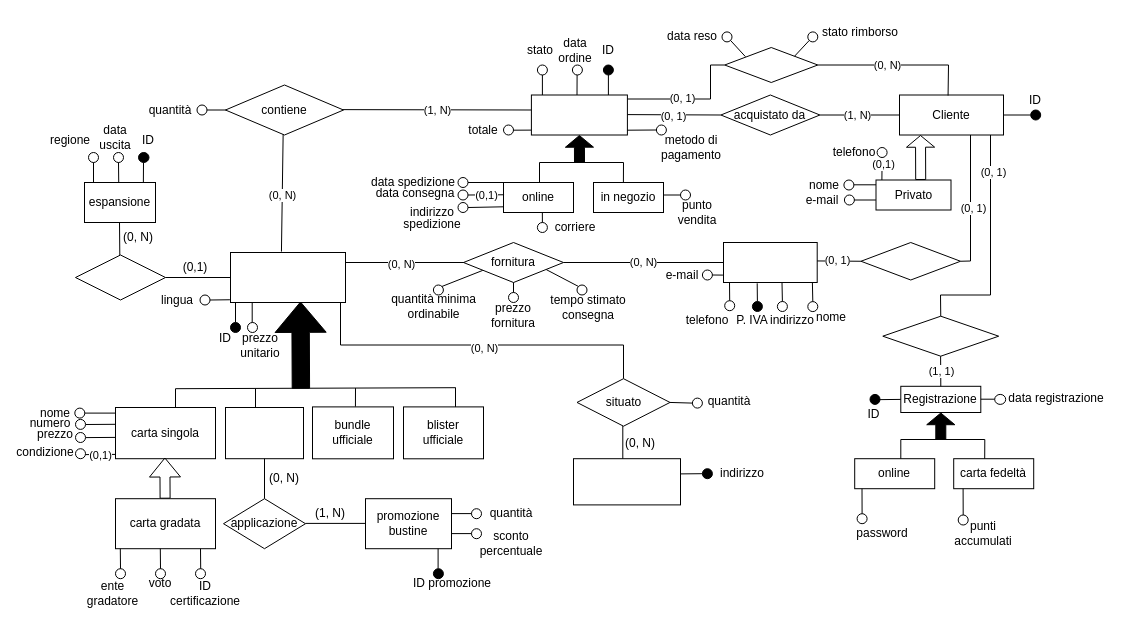
Image size: 1127x626. Some labels were removed from this diagram. Each missing label, with the centre of its shape:
"appartiene" goes at (120,277).
"Azienda" goes at (769,262).
"bustina" goes at (264,432).
"cliente azienda" goes at (910,261).
"Magazzino" goes at (626,481).
"Ordine" goes at (578,114).
"Prodotto" goes at (288,277).
"registrato" goes at (940,335).
"reso" goes at (771,64).
